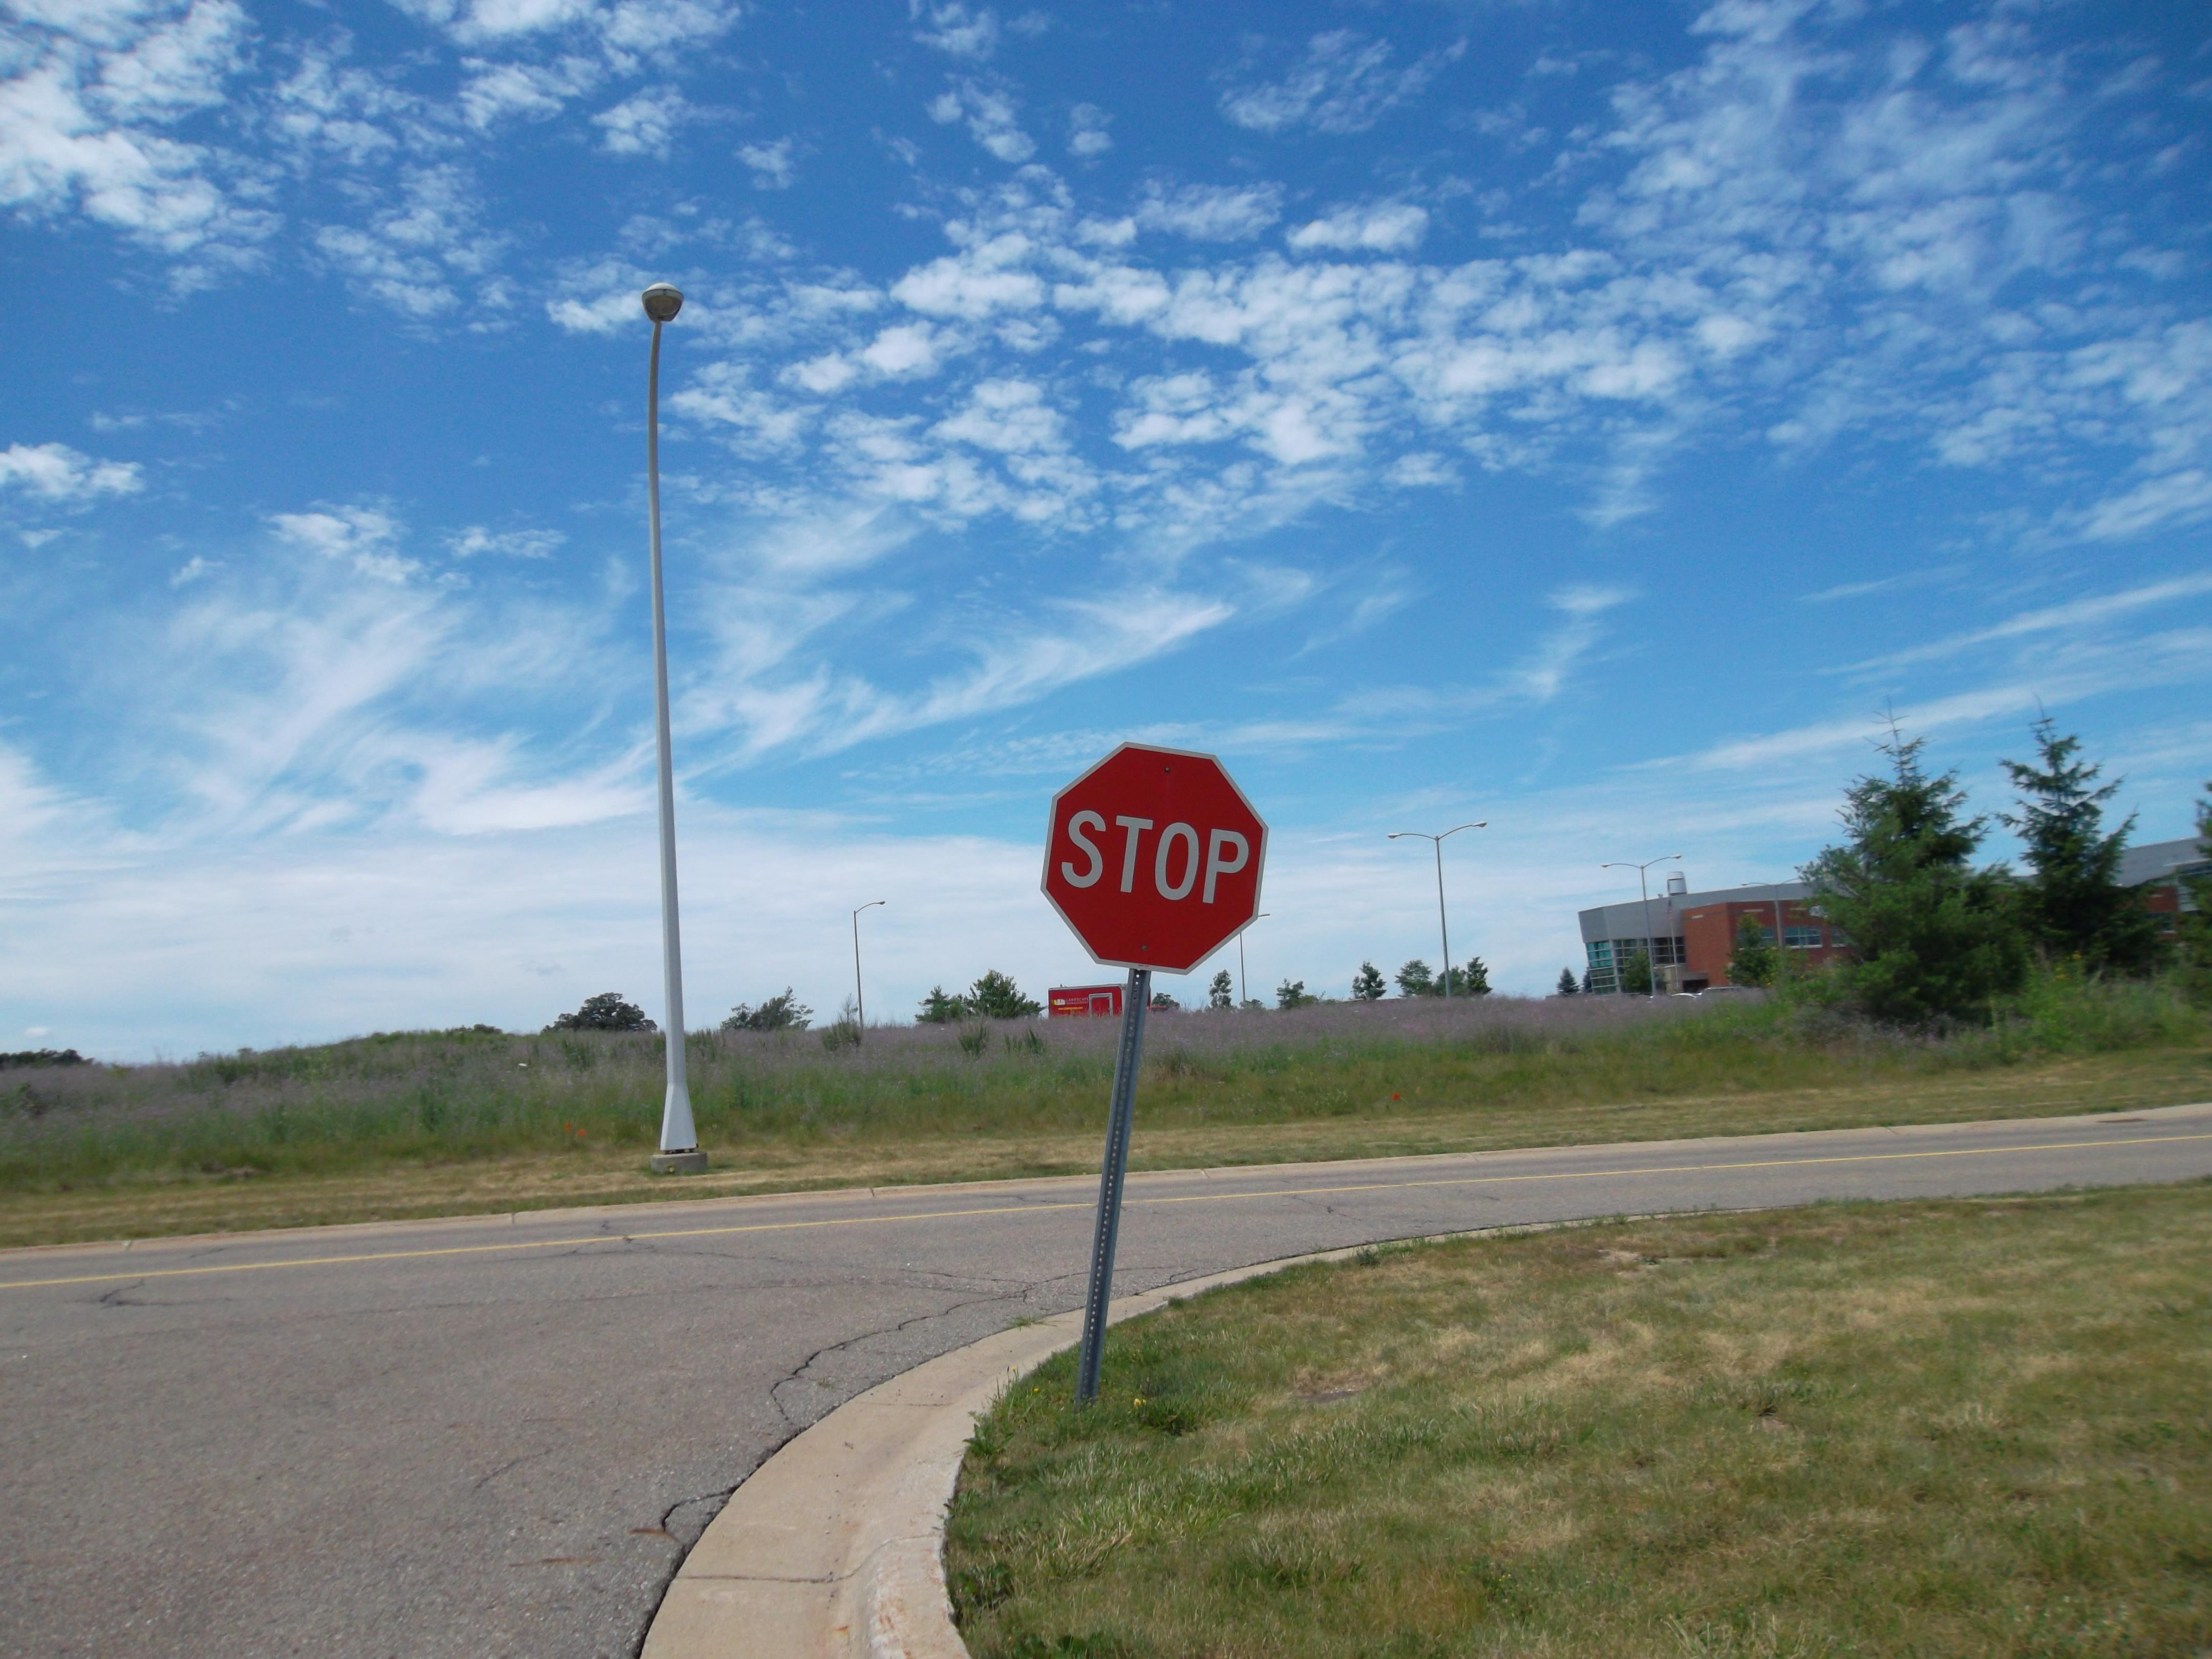stop: (1040, 737, 1275, 979)
